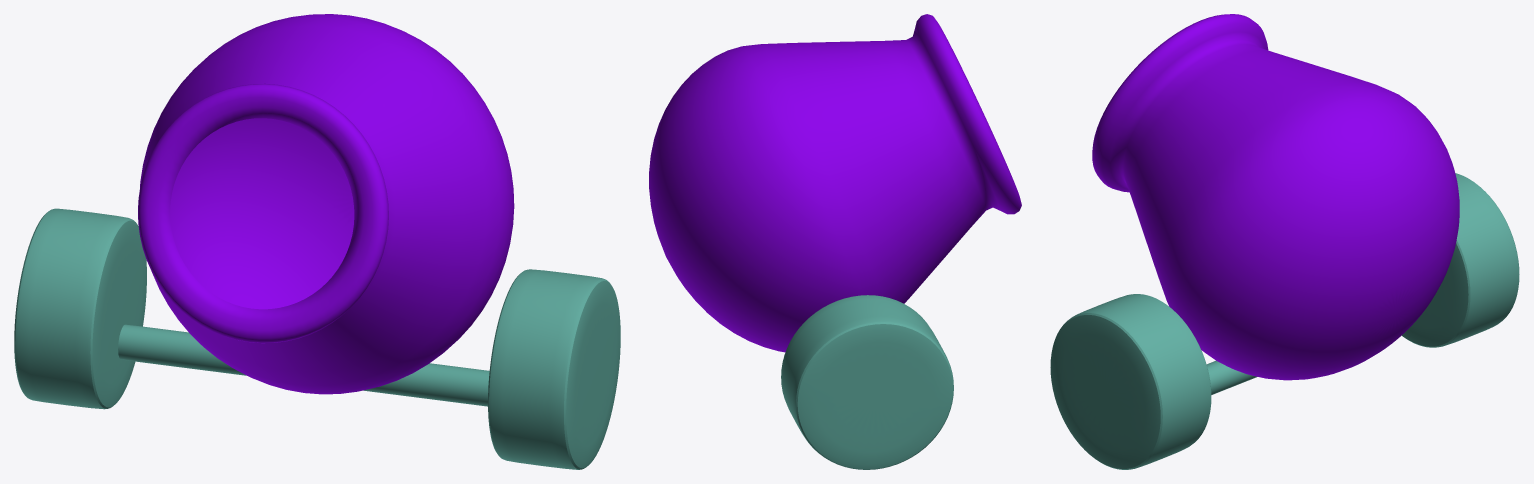
The model's file is Cannon.fbx.
3 renders of one model, left to right at view 1: azimuth 30°, elevation 25°; view 2: azimuth 150°, elevation 25°; view 3: azimuth 270°, elevation 25°, orthographic. The views are drawn at different scales.
Visible parts, largest first — view 1: Sphere, Cube.004; view 2: Sphere, Cube.004; view 3: Sphere, Cube.004.
Part boxes in pixels (x1=…): Sphere: x1=138, y1=14, x2=514, y2=394; Cube.004: x1=14, y1=208, x2=620, y2=469; Sphere: x1=649, y1=14, x2=1021, y2=352; Cube.004: x1=781, y1=295, x2=953, y2=469; Sphere: x1=1092, y1=14, x2=1459, y2=380; Cube.004: x1=1050, y1=173, x2=1519, y2=469.
Size of the model in its own units: 127 by 104 by 131.
